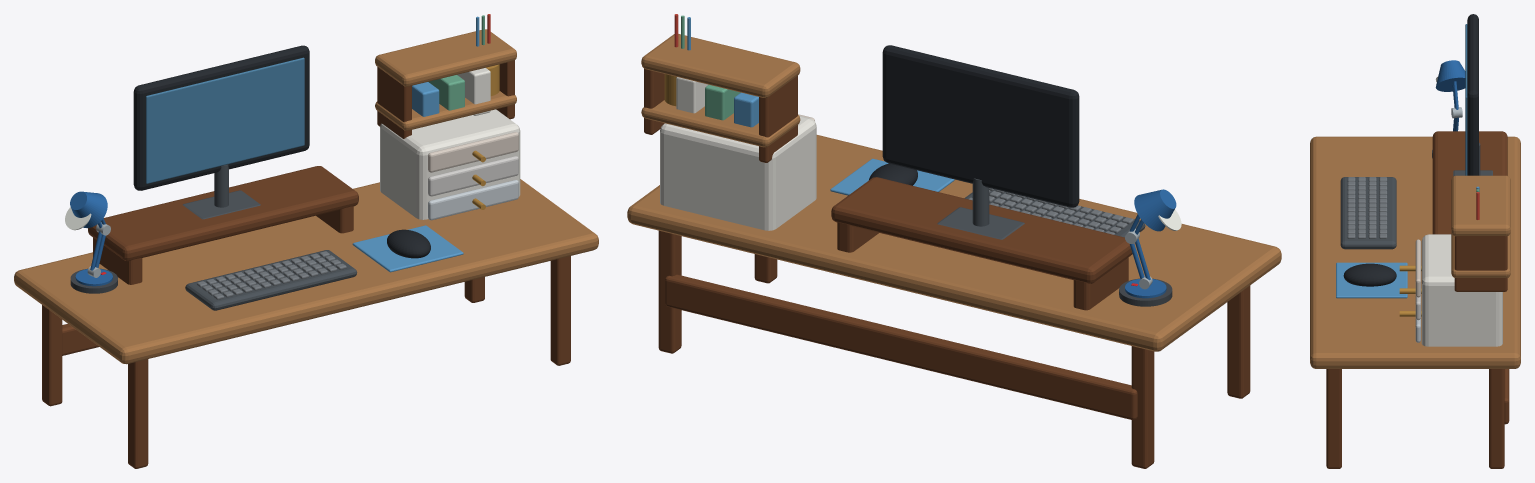
Rendered from desk.glb.
3 renders of one model, left to right at view 1: azimuth 30°, elevation 25°; view 2: azimuth 150°, elevation 25°; view 3: azimuth 270°, elevation 25°, orthographic. The views are drawn at different scales.
Bounding box in the file's own units: 3.35 × 2.06 × 1.35.
